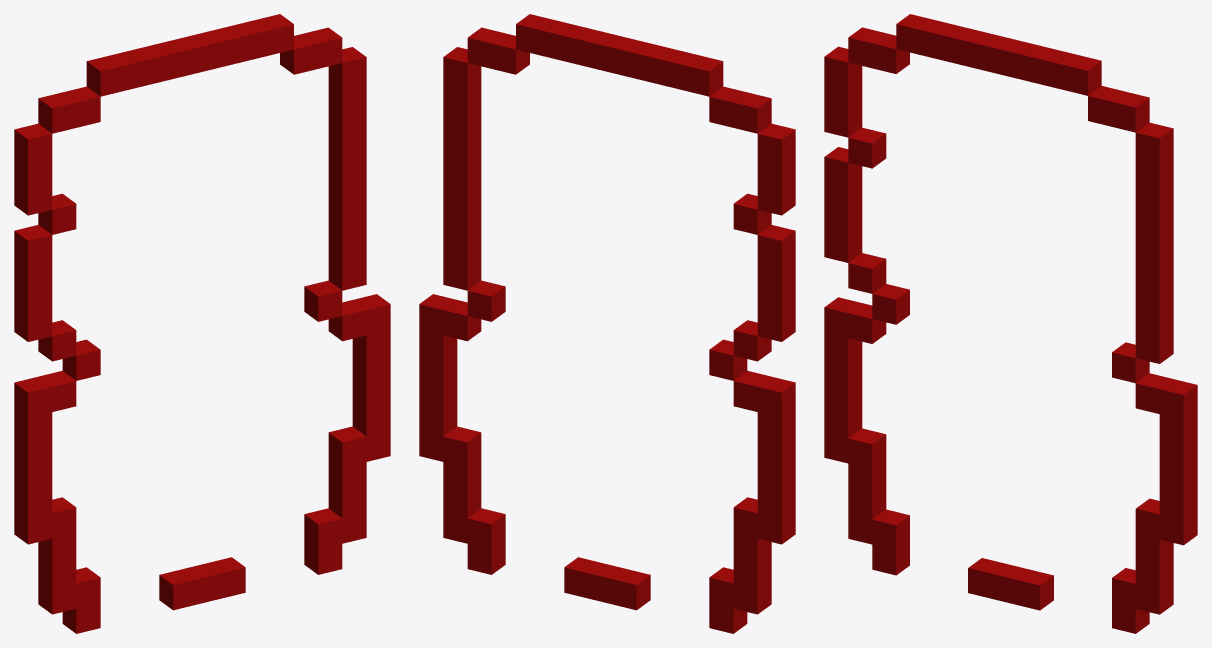
The model's file is bear-7.obj.
The picture shows the model from 3 angles, left to right: view 1: azimuth 30°, elevation 25°; view 2: azimuth 150°, elevation 25°; view 3: azimuth 330°, elevation 25°; orthographic projection.
Size of the model in its own units: 1.5 by 2.2 by 0.1.
Materials: 1 (1 with a texture image).
